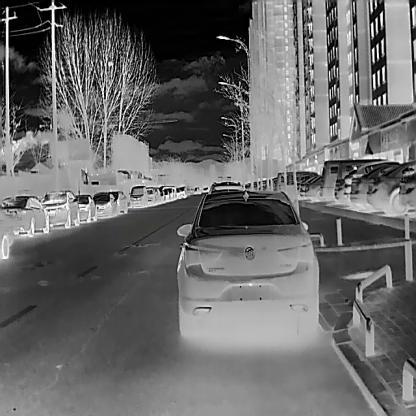car: (176, 190, 319, 346), (321, 158, 386, 204), (366, 160, 415, 213), (350, 162, 402, 208), (0, 195, 49, 237), (39, 189, 80, 227), (92, 190, 120, 216), (399, 171, 416, 211), (74, 193, 96, 222), (128, 185, 148, 208)
